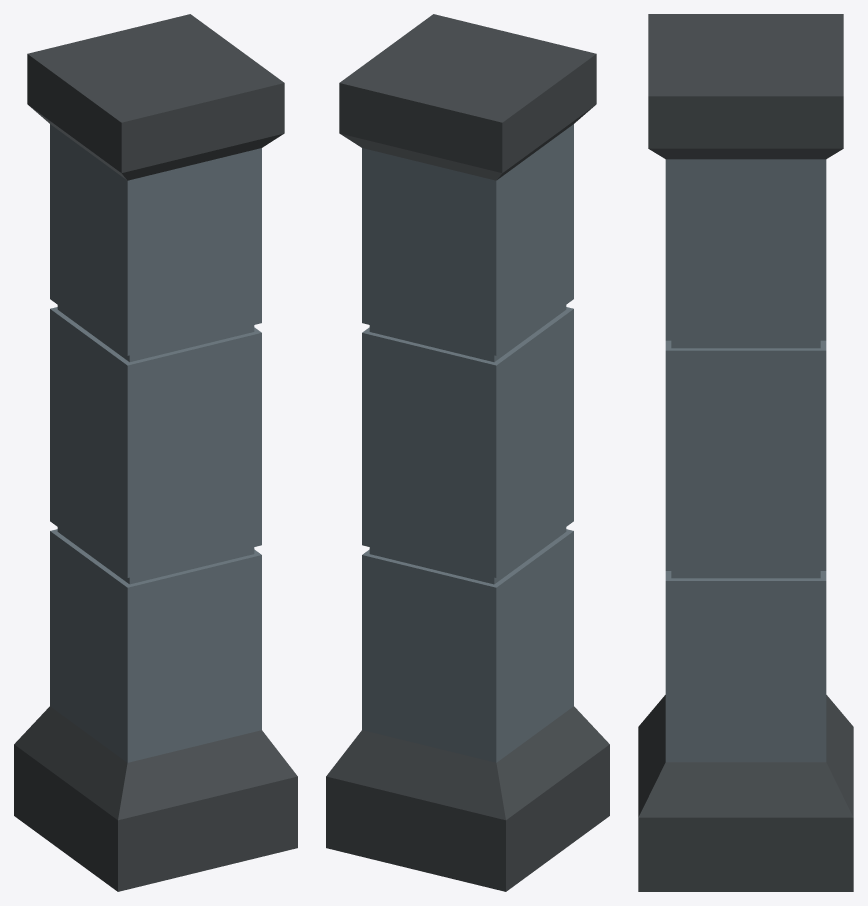
The model's file is pillar_1.obj.
3 views of the same model, side by side, from view 1: azimuth 30°, elevation 25°; view 2: azimuth 150°, elevation 25°; view 3: azimuth 270°, elevation 25° (orthographic). The views are drawn at different scales.
Visible parts, largest first — view 1: pillar_1; view 2: pillar_1; view 3: pillar_1.
Part boxes in pixels (x1,y1,x2,y2): pillar_1: (14, 14, 297, 891); pillar_1: (326, 14, 609, 891); pillar_1: (638, 14, 853, 891).
Size of the model in its own units: 0.4067 by 1.65 by 0.4067.
